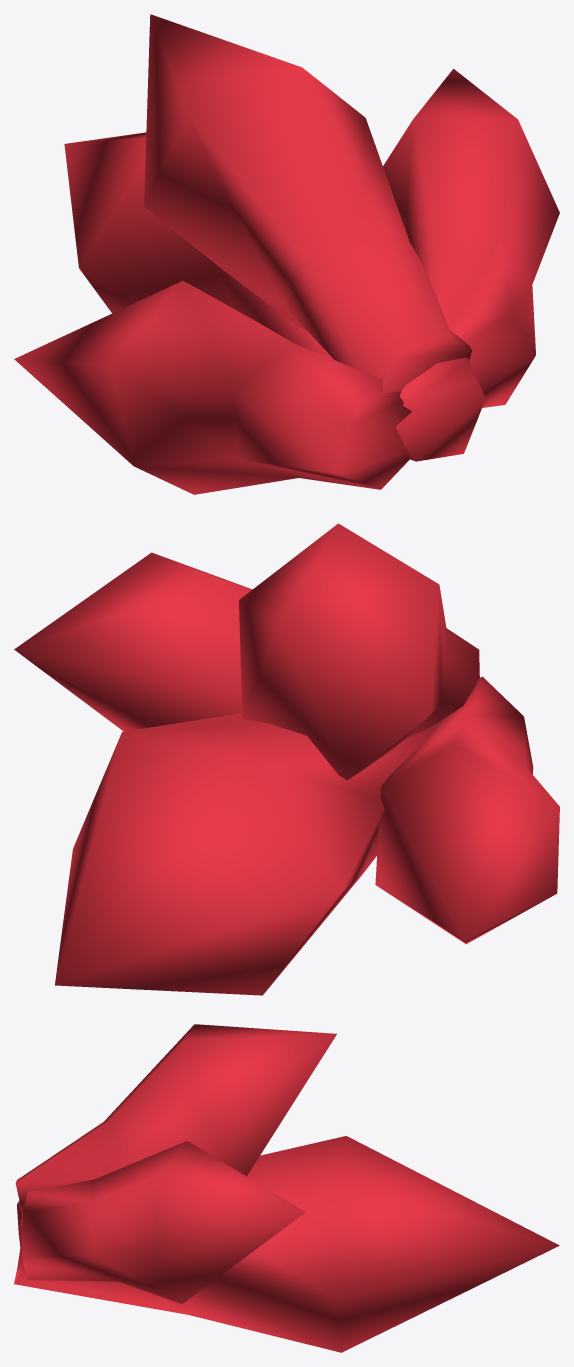
File: RubyGem.fbx
3 renders of one model, top to bottom at view 1: azimuth 30°, elevation 25°; view 2: azimuth 150°, elevation 25°; view 3: azimuth 270°, elevation 25°, orthographic. The views are drawn at different scales.
Visible parts, largest first — view 1: Object_30.001; view 2: Object_30.001; view 3: Object_30.001.
Part boxes in pixels (x1,y1,x2,y2): Object_30.001: (14,14,559,494); Object_30.001: (14,523,559,995); Object_30.001: (14,1024,559,1352).
Size of the model in its own units: 0.1611 by 0.1374 by 0.2363.
1 material, 1 textured.
